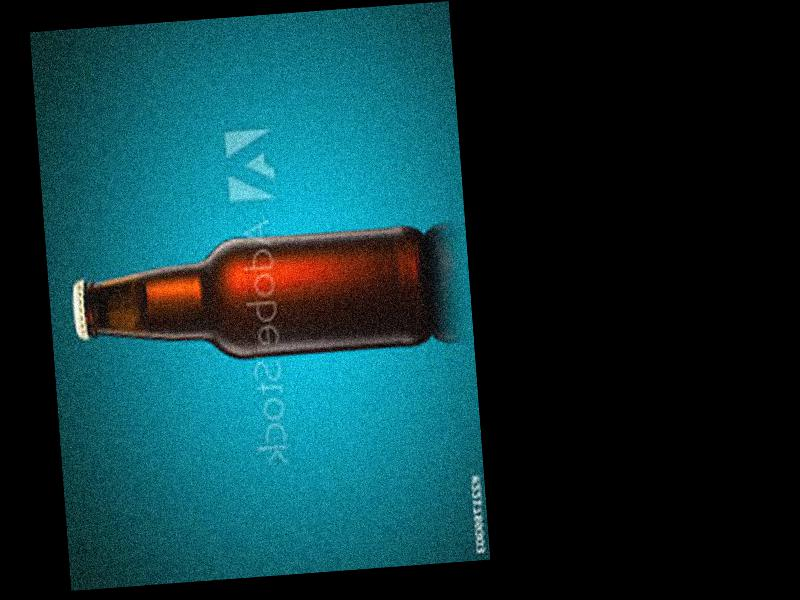Beer: (68, 225, 435, 373)
